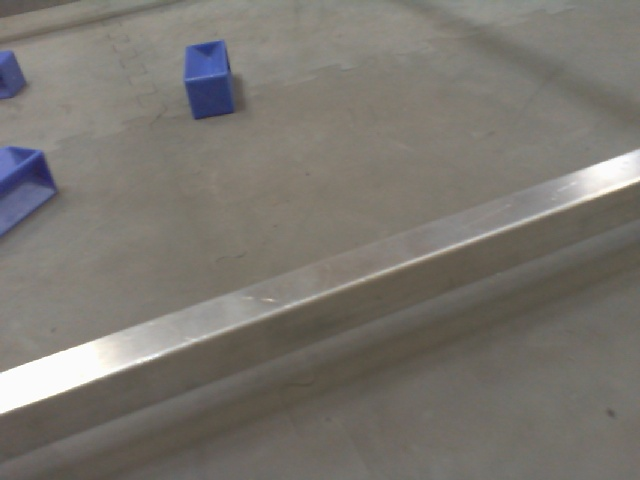BlueSample: (1, 136, 60, 240), (179, 38, 238, 118), (1, 47, 31, 102)
